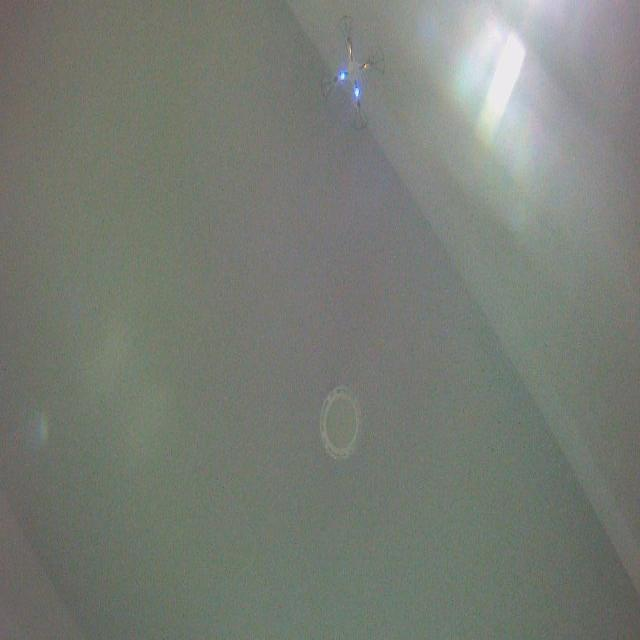drone: (318, 13, 388, 132)
